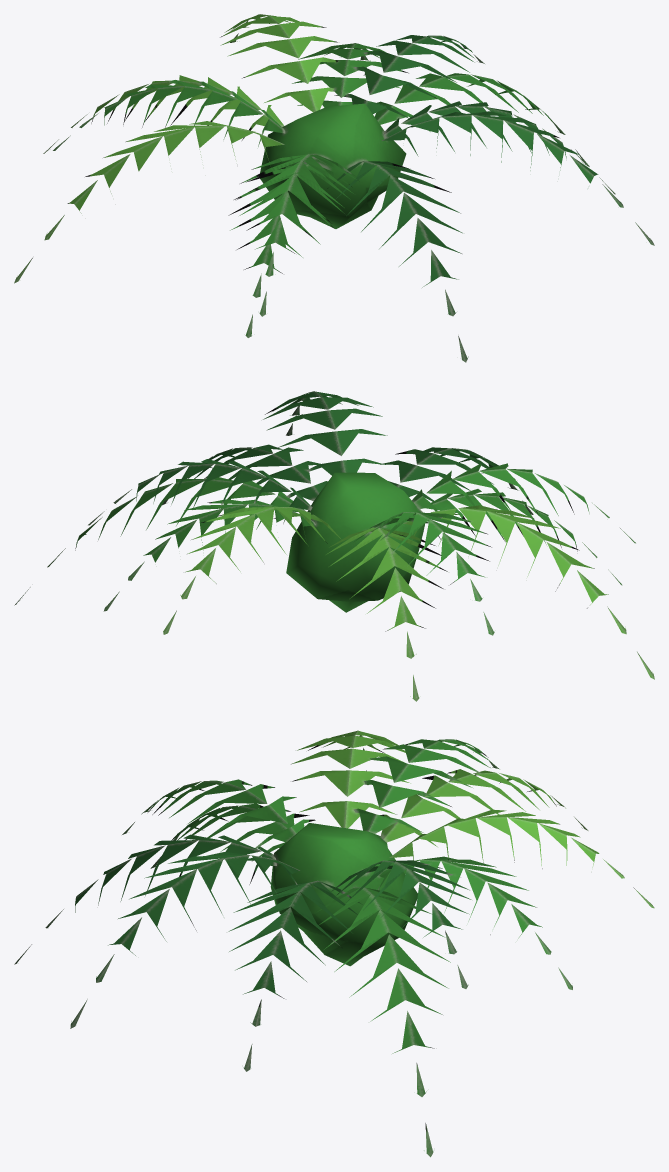
Rendered from en_fern.glb.
3 renders of one model, top to bottom at view 1: azimuth 30°, elevation 25°; view 2: azimuth 150°, elevation 25°; view 3: azimuth 270°, elevation 25°, orthographic. The views are drawn at different scales.
Visible parts, largest first — view 1: en_fern; view 2: en_fern; view 3: en_fern.
Part boxes in pixels (x1=…): en_fern: x1=14, y1=14, x2=654, y2=362; en_fern: x1=14, y1=391, x2=654, y2=701; en_fern: x1=14, y1=730, x2=654, y2=1157.
Size of the model in its own units: 3.81 by 1.11 by 3.27.
3 materials, 3 textured.
